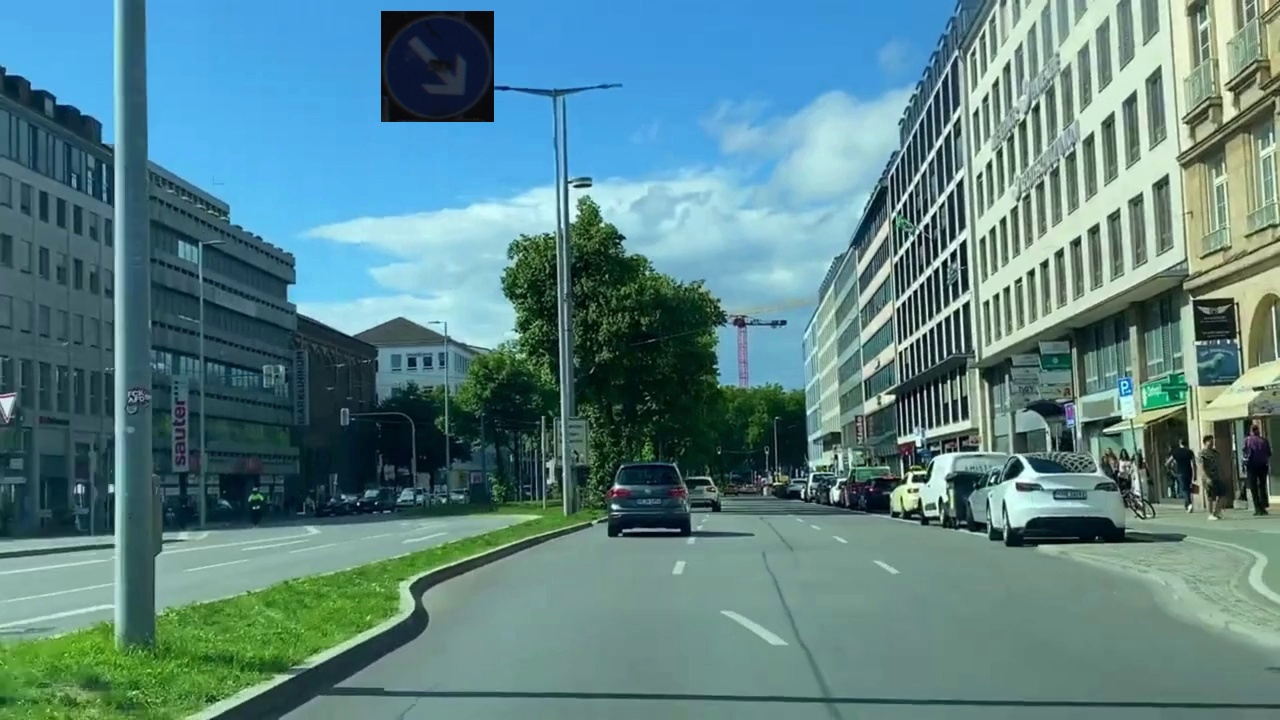Keep right: (381, 11, 494, 122)
